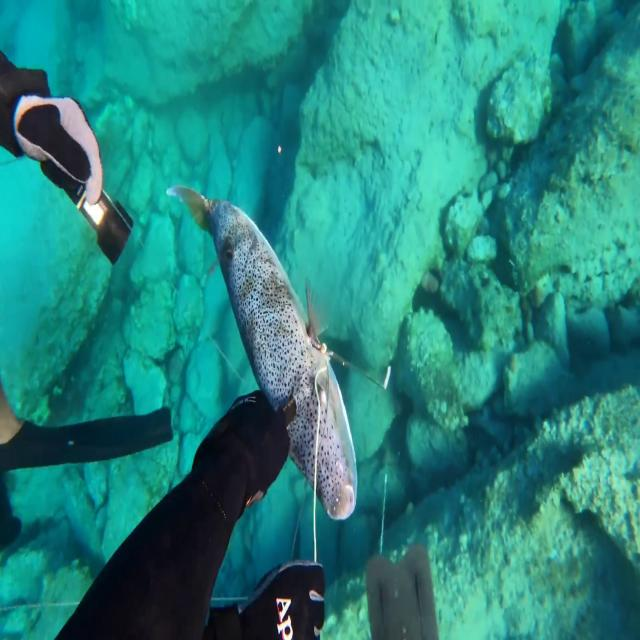Balon Baligi: (165, 179, 358, 520)
